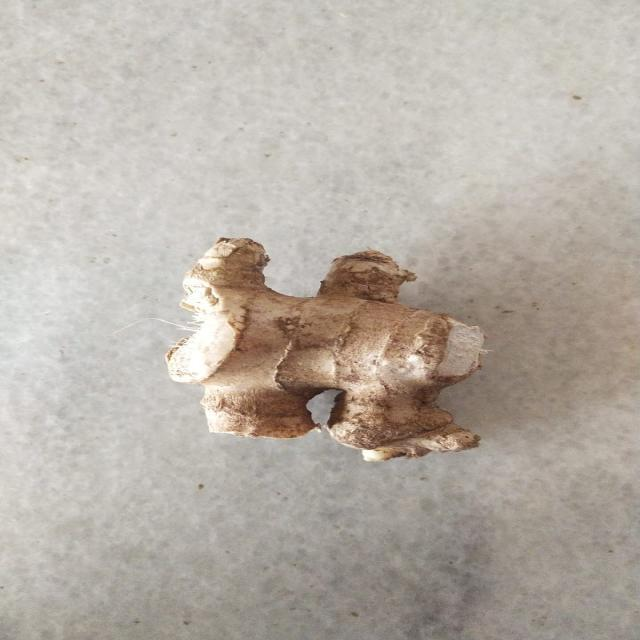ginger: (178, 238, 483, 467)
